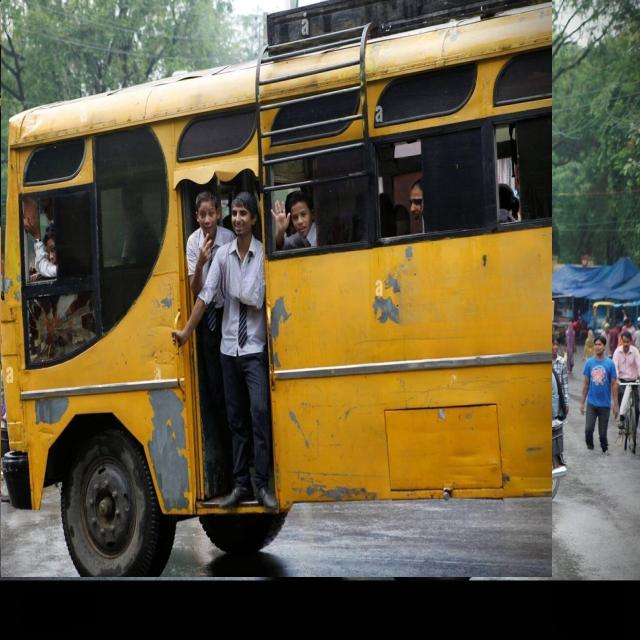bus: (1, 0, 551, 577)
